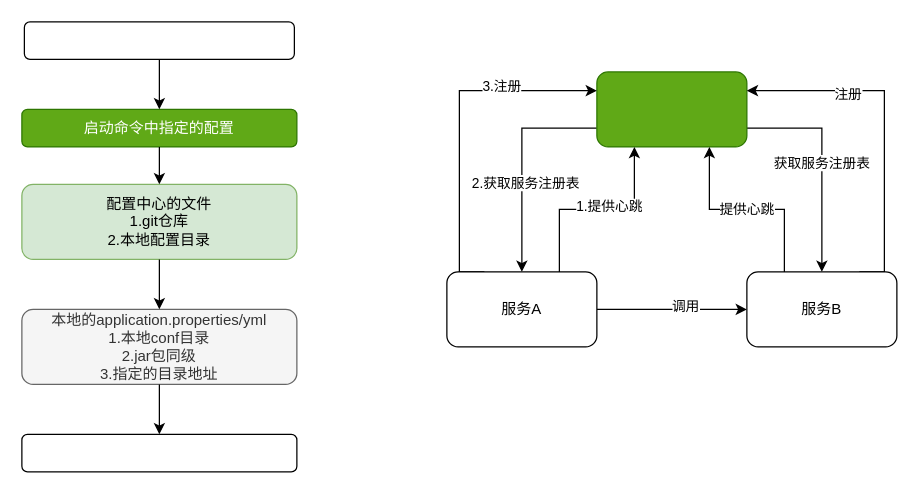
The diagram is 919 pixels wide and 494 high, and some of its shapes have lost their labels. The centre of each missing label's shape, as x and y in pixels:
Eureka注册中心: (671,109)
spring cloud bootstrap 配置加载顺序: (158,40)
本地的bootstrap.properties/yml: (159,452)
